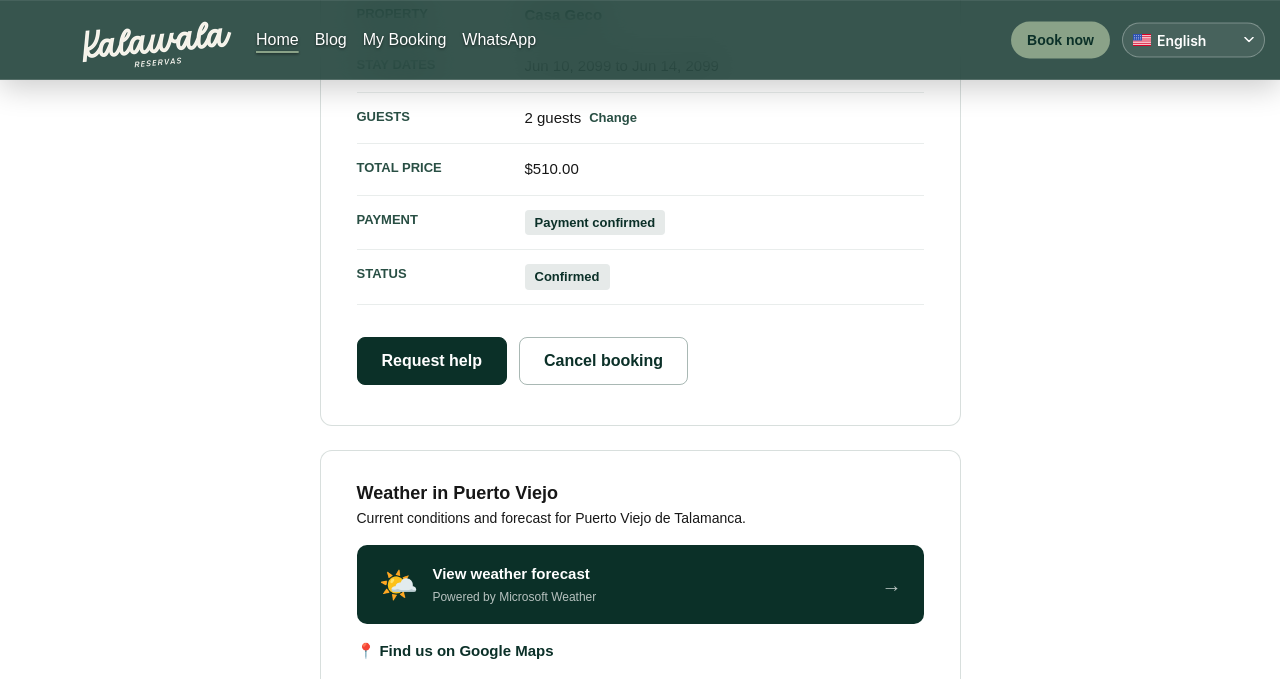
Scenario: a deposit booking is told its refund comes by bank transfer
(page scrolled)
Click the button "Cancel booking" at (604, 361), box x1=519 y1=337 x2=688 y2=385
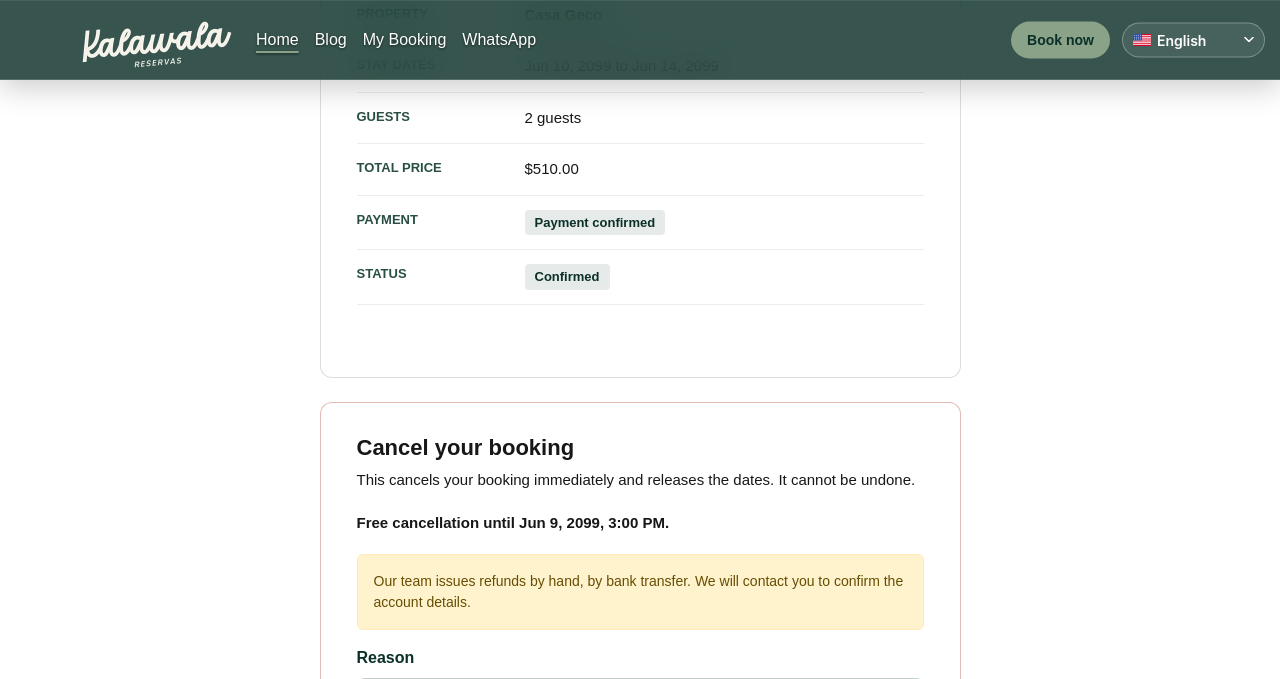
Now the text "refunds by hand, by bank transfer" is shown, box x1=374 y1=573 x2=903 y2=610
